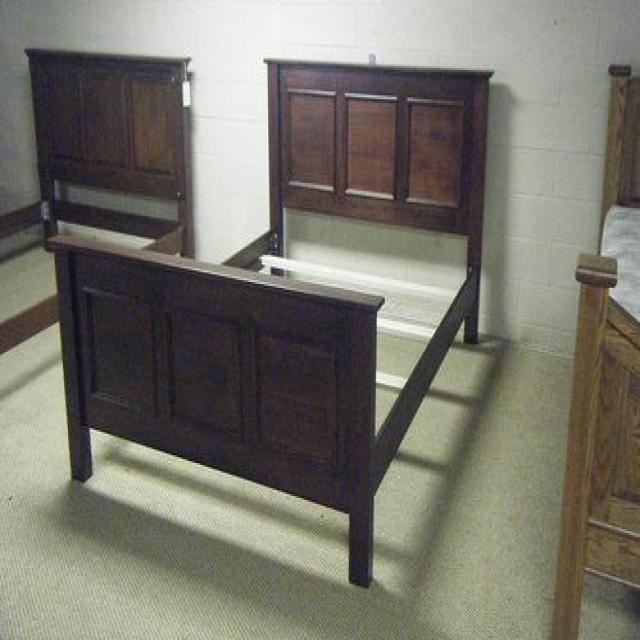bed: (23, 46, 494, 588), (552, 62, 638, 638)
